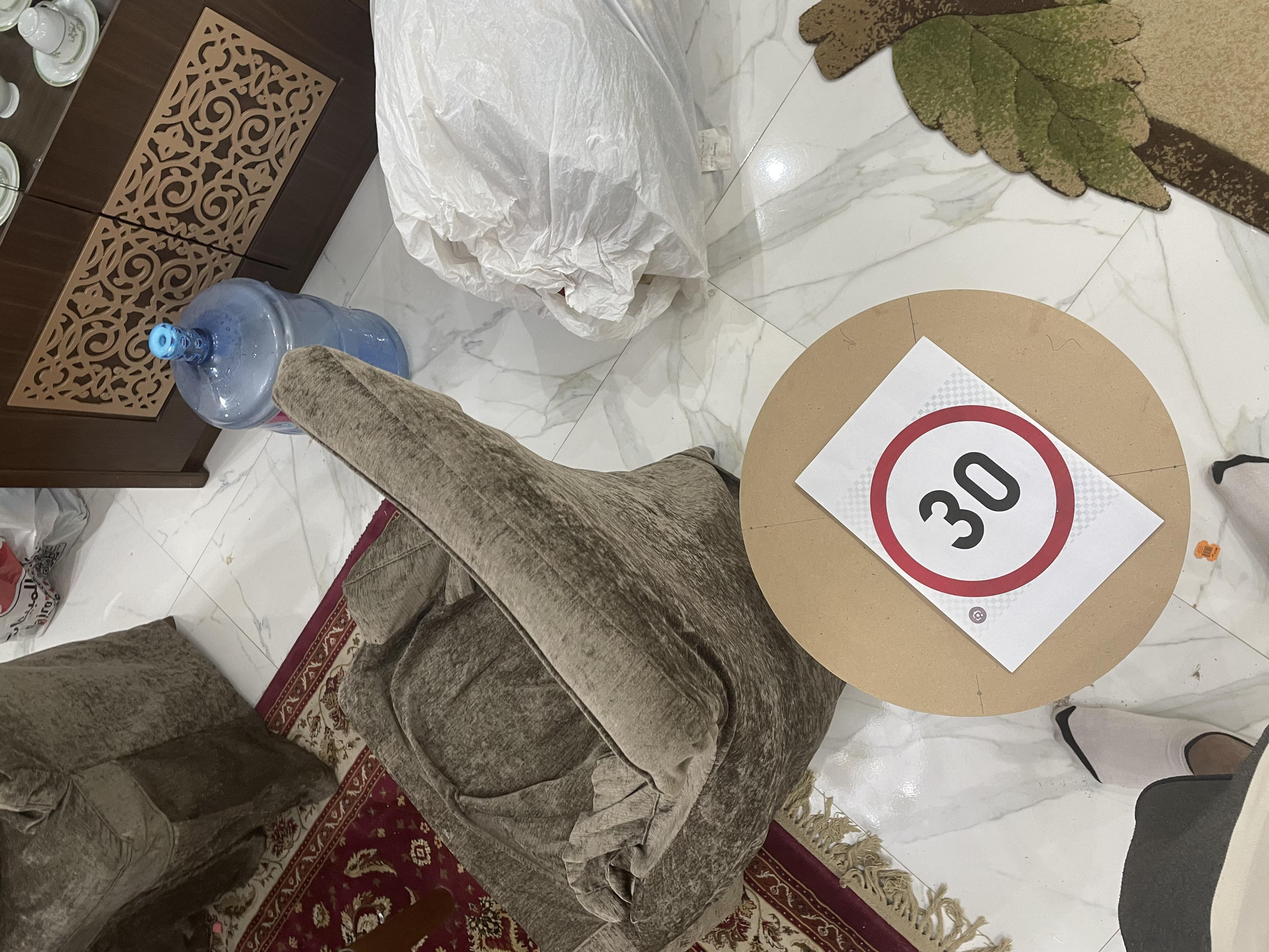30-speed: (479, 654, 727, 810)
